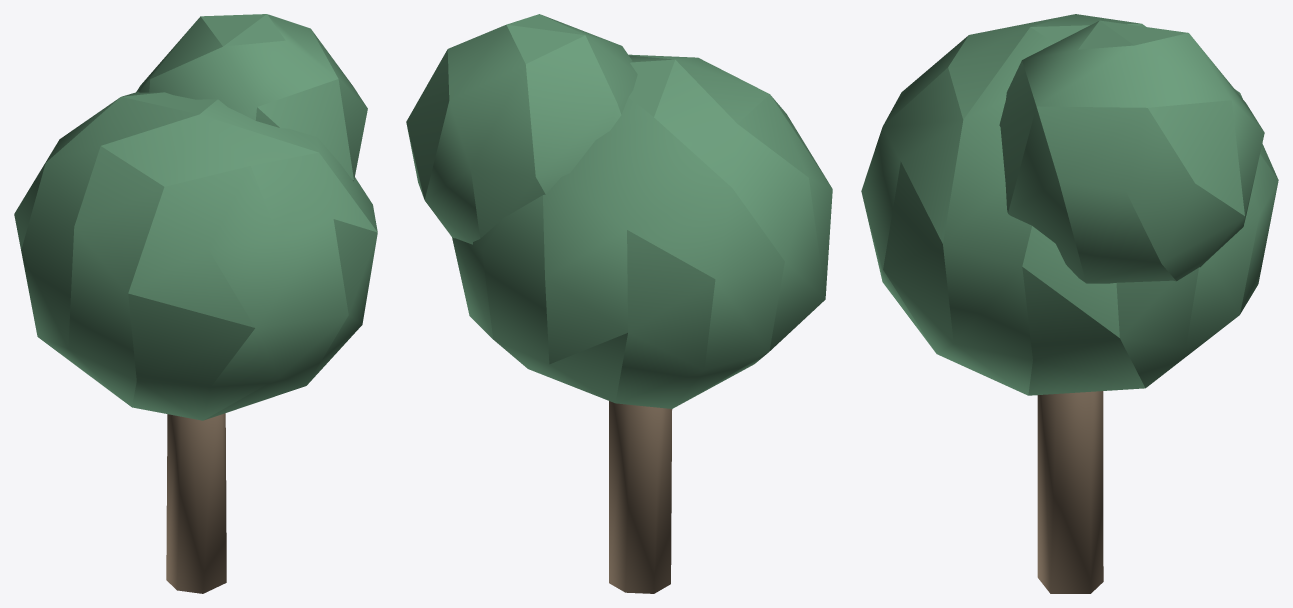
Rendered from SM_Kurpark_Tree_LOD2.fbx.
3 views of the same model, side by side, from view 1: azimuth 30°, elevation 25°; view 2: azimuth 150°, elevation 25°; view 3: azimuth 270°, elevation 25° (orthographic). The views are drawn at different scales.
Visible parts, largest first — view 1: SM_Kurpark_Tree_LOD2; view 2: SM_Kurpark_Tree_LOD2; view 3: SM_Kurpark_Tree_LOD2.
Boxes of the visible parts, left/top/right/bottom form: SM_Kurpark_Tree_LOD2: left=14, top=14, right=377, bottom=593; SM_Kurpark_Tree_LOD2: left=406, top=14, right=832, bottom=593; SM_Kurpark_Tree_LOD2: left=861, top=14, right=1278, bottom=593.
Bounding box in the file's own units: 3.16 × 4.7 × 3.01.
